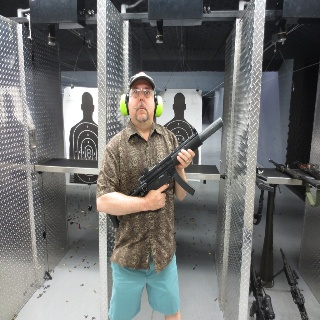rifle: (104, 117, 225, 223)
